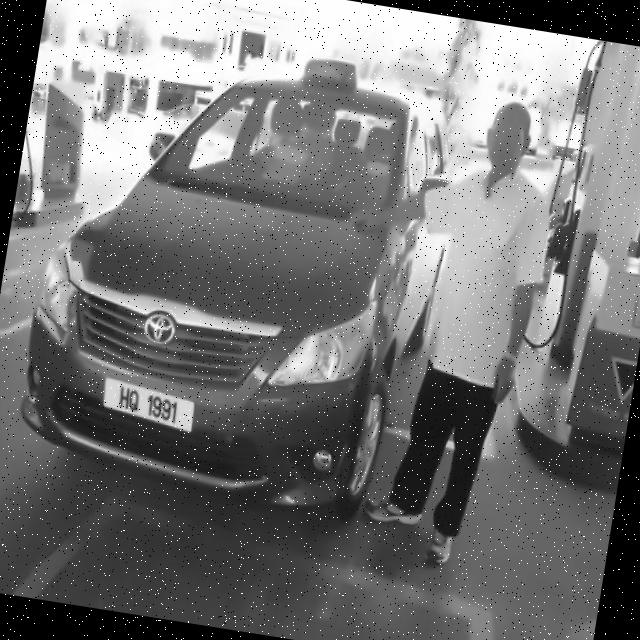License_Plate: (94, 371, 206, 440)
car: (1, 1, 505, 579)
